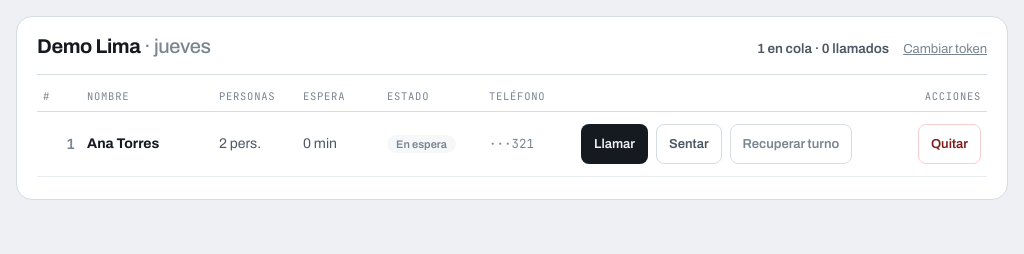
TabletPage: acciones › un error de red al recuperar el enlace muestra el aviso de reintentar
Expected: the text "Ana Torres" is shown, [87,136,159,151]
Click the button "Recuperar turno": (791, 144) [730,124,852,164]
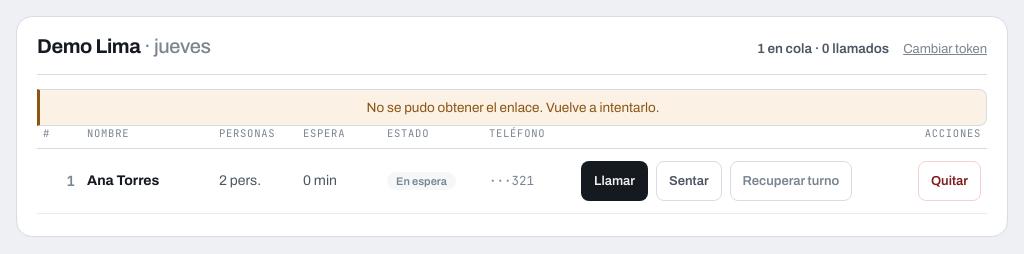
Result: the text "No se pudo obtener el enlace. Vuelve a intentarlo." is shown at [37,88,987,126]
